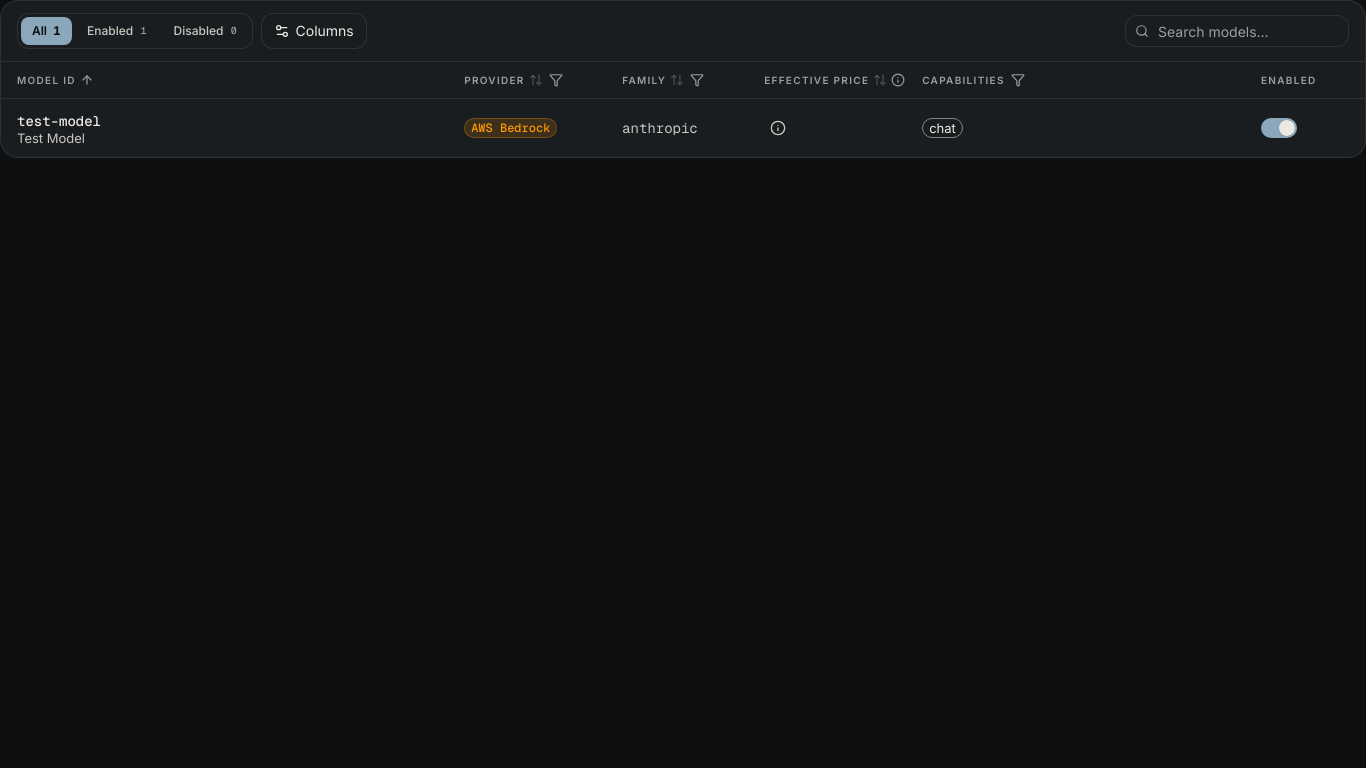
it: NonTokenPricingRows › renders audio pricing rows when audio costs are set
The image size is (1366, 768).
Note: Open the detail overlay by clicking the row.
Click the text "test-model". click: (59, 122)
box: left=17, top=111, right=101, bottom=132
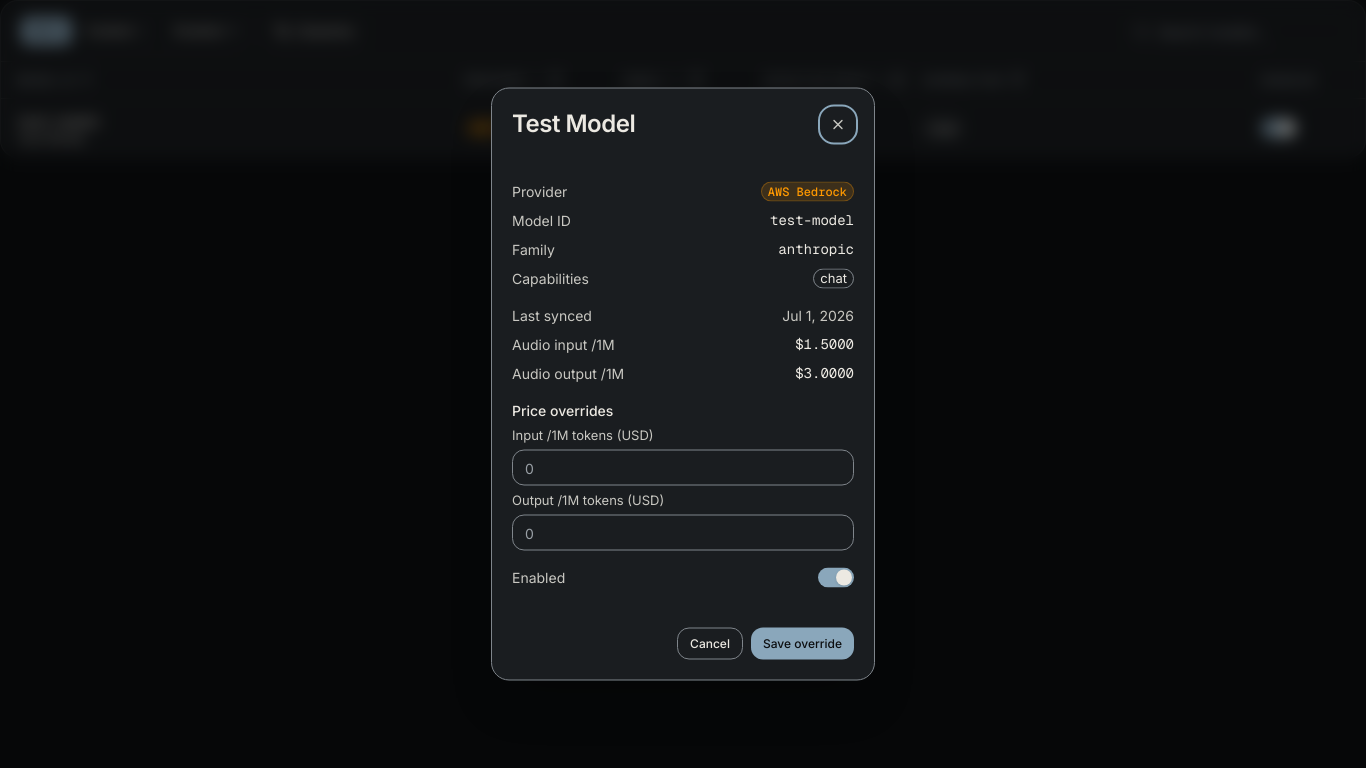
Expected: the text "Audio input /1M" is shown, left=512, top=334, right=615, bottom=354
Expected: the text "Audio output /1M" is shown, left=512, top=362, right=624, bottom=384
